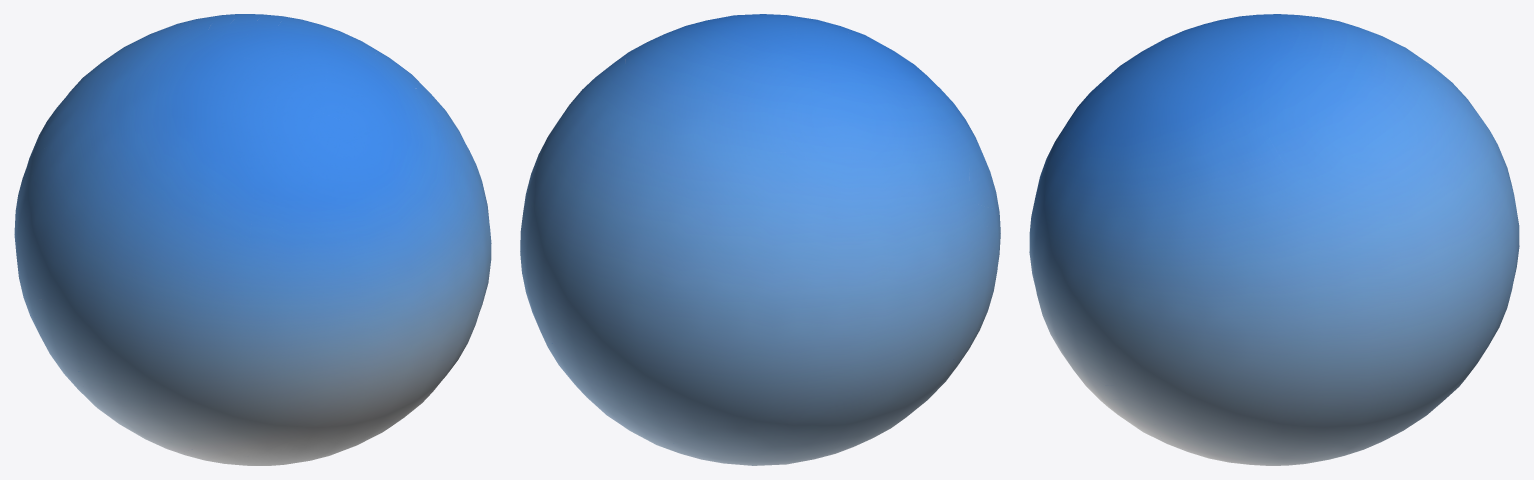
The model's file is map2_shop_ciel.obj.
3 views of the same model, side by side, from view 1: azimuth 30°, elevation 25°; view 2: azimuth 150°, elevation 25°; view 3: azimuth 270°, elevation 25° (orthographic).
Bounding box in the file's own units: 14392 × 13450 × 14827.
1 material, 1 textured.
